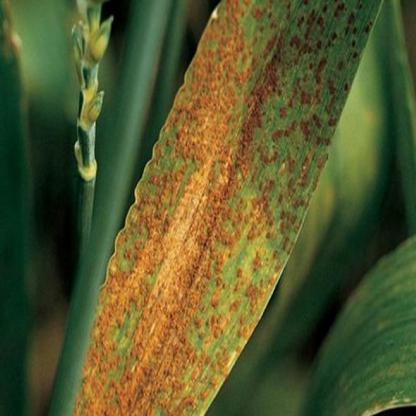corn rust leaf: (51, 1, 391, 415)
